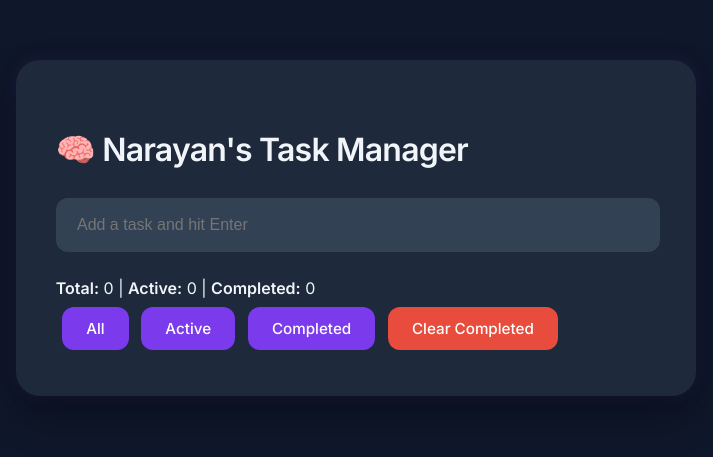
Test: App core flows › adds a task by pressing Enter
Type "Buy milk" into the field with placeholder "Add a task and hit Enter".
click(358, 225); type("Buy milk")  # box [56, 198, 660, 252]
Then press Enter
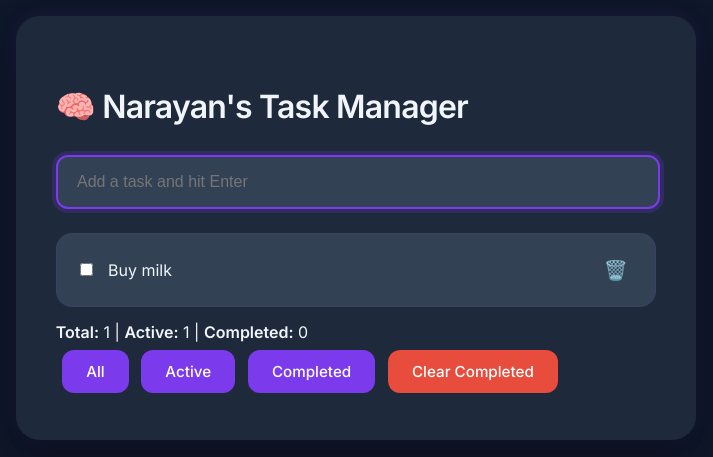
Check: the text "Buy milk" is shown, box [108, 258, 172, 282]
